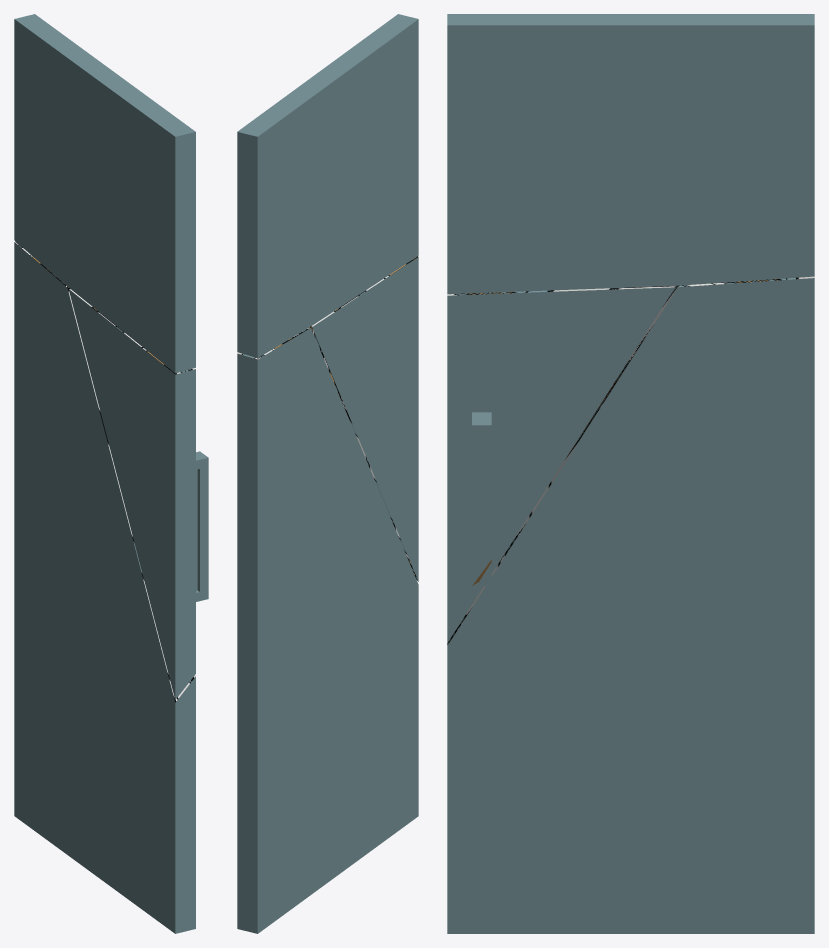
The model's file is Cabinet_Big_Door.006_cell.fbx.
3 renders of one model, left to right at view 1: azimuth 30°, elevation 25°; view 2: azimuth 150°, elevation 25°; view 3: azimuth 270°, elevation 25°, orthographic. The views are drawn at different scales.
Visible parts, largest first — view 1: Cabinet_Big_Door.006_cell.002, Cabinet_Big_Door.006_cell.001, Cabinet_Big_Door.006_cell.003, Cabinet_Big_Door.006_cell; view 2: Cabinet_Big_Door.006_cell.002, Cabinet_Big_Door.006_cell.001, Cabinet_Big_Door.006_cell.003; view 3: Cabinet_Big_Door.006_cell.002, Cabinet_Big_Door.006_cell.001, Cabinet_Big_Door.006_cell.003, Cabinet_Big_Door.006_cell.
Boxes of the visible parts, <box> form: Cabinet_Big_Door.006_cell.002: <box>14,241,195,933</box>; Cabinet_Big_Door.006_cell.001: <box>14,14,195,373</box>; Cabinet_Big_Door.006_cell.003: <box>68,288,195,699</box>; Cabinet_Big_Door.006_cell: <box>196,451,208,601</box>; Cabinet_Big_Door.006_cell.002: <box>237,327,418,933</box>; Cabinet_Big_Door.006_cell.001: <box>237,14,418,357</box>; Cabinet_Big_Door.006_cell.003: <box>310,256,418,581</box>; Cabinet_Big_Door.006_cell.002: <box>447,276,814,933</box>; Cabinet_Big_Door.006_cell.001: <box>447,14,814,294</box>; Cabinet_Big_Door.006_cell.003: <box>447,285,679,645</box>; Cabinet_Big_Door.006_cell: <box>472,412,491,585</box>.
Bounding box in the file's own units: 7.35 × 127 × 46.62.
